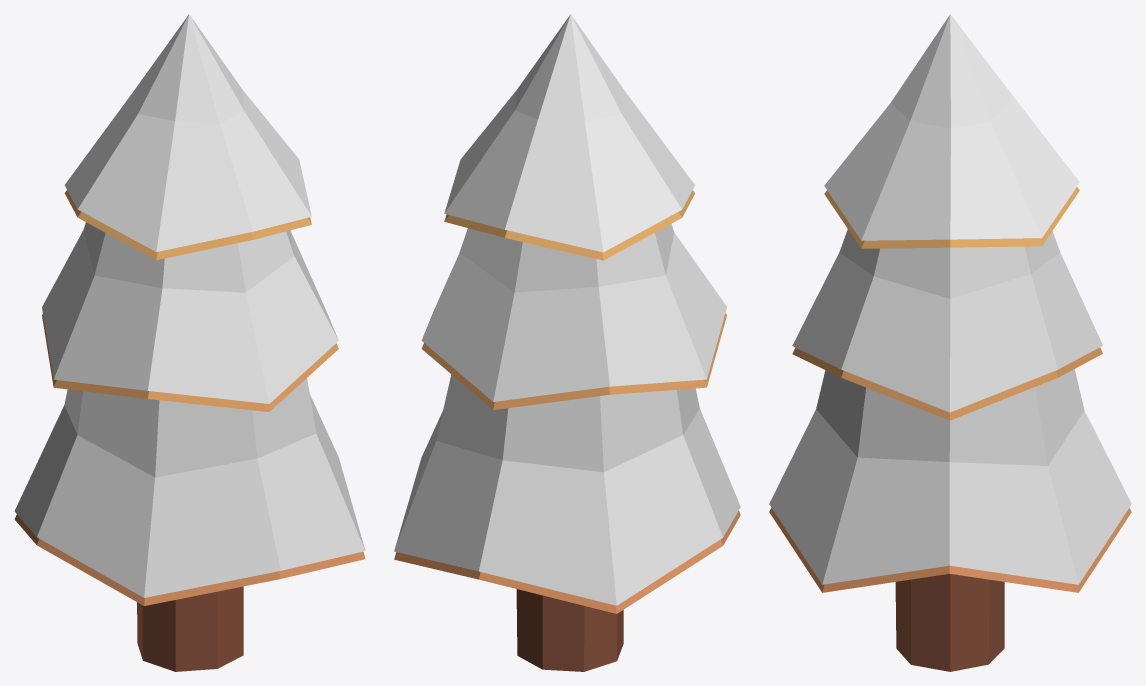
File: Tree_01_winter_gradient_yellow.fbx
3 views of the same model, side by side, from view 1: azimuth 30°, elevation 25°; view 2: azimuth 150°, elevation 25°; view 3: azimuth 270°, elevation 25° (orthographic).
Visible parts, largest first — view 1: Tree_01_winter_gradient_yellow; view 2: Tree_01_winter_gradient_yellow; view 3: Tree_01_winter_gradient_yellow.
Boxes of the visible parts, bbox=[...] form: Tree_01_winter_gradient_yellow: bbox=[14, 14, 365, 671]; Tree_01_winter_gradient_yellow: bbox=[394, 14, 740, 671]; Tree_01_winter_gradient_yellow: bbox=[769, 14, 1131, 671].
Size of the model in its own units: 83.22 by 167 by 86.78.
